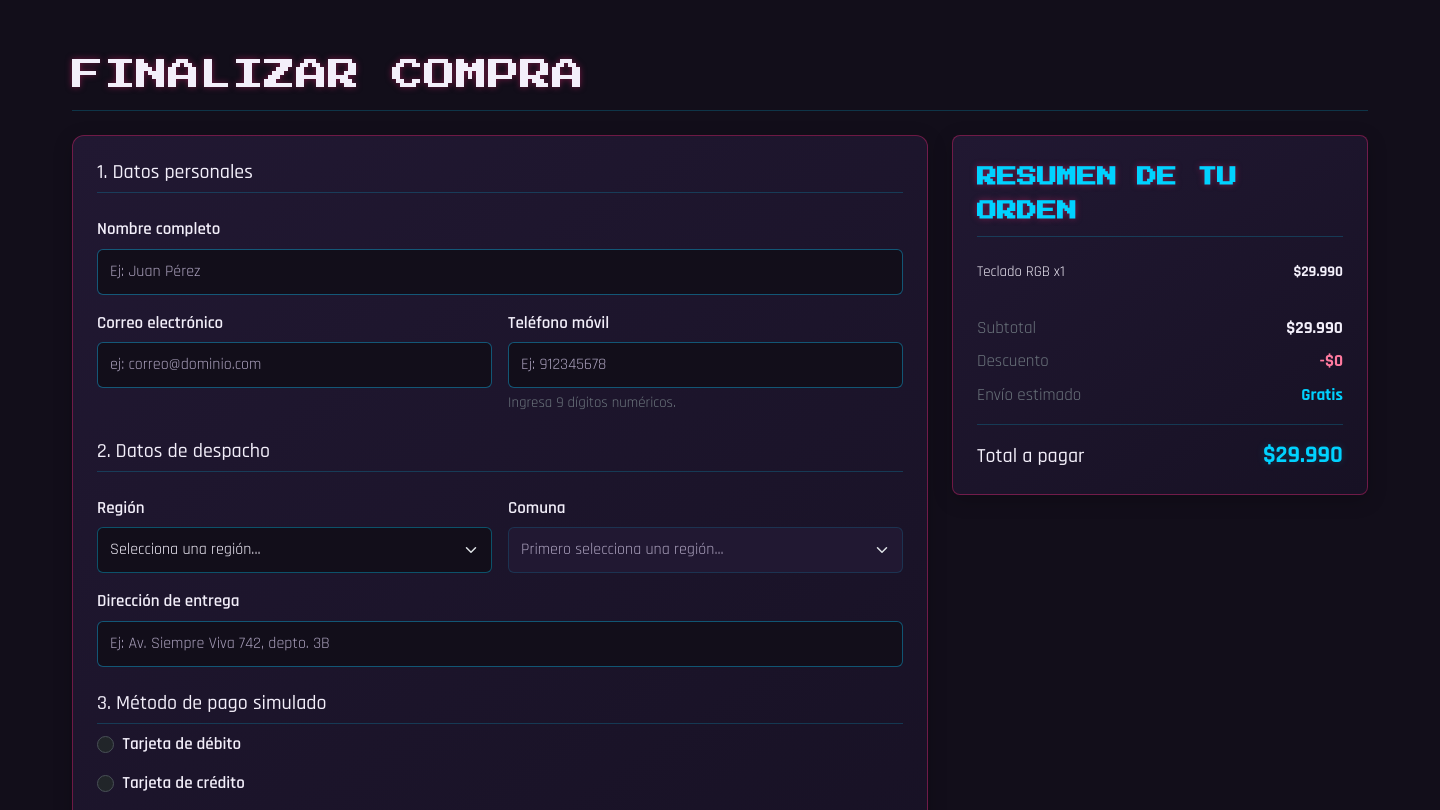
Test: Página Checkout › Debe impedir la compra cuando falta la dirección
In the field labelled "Nombre completo": (500, 272) [97, 249, 903, 295], type "Juan Pérez"
In the field labelled "Correo electrónico": (294, 365) [97, 342, 492, 388], type "juan@correo.cl"
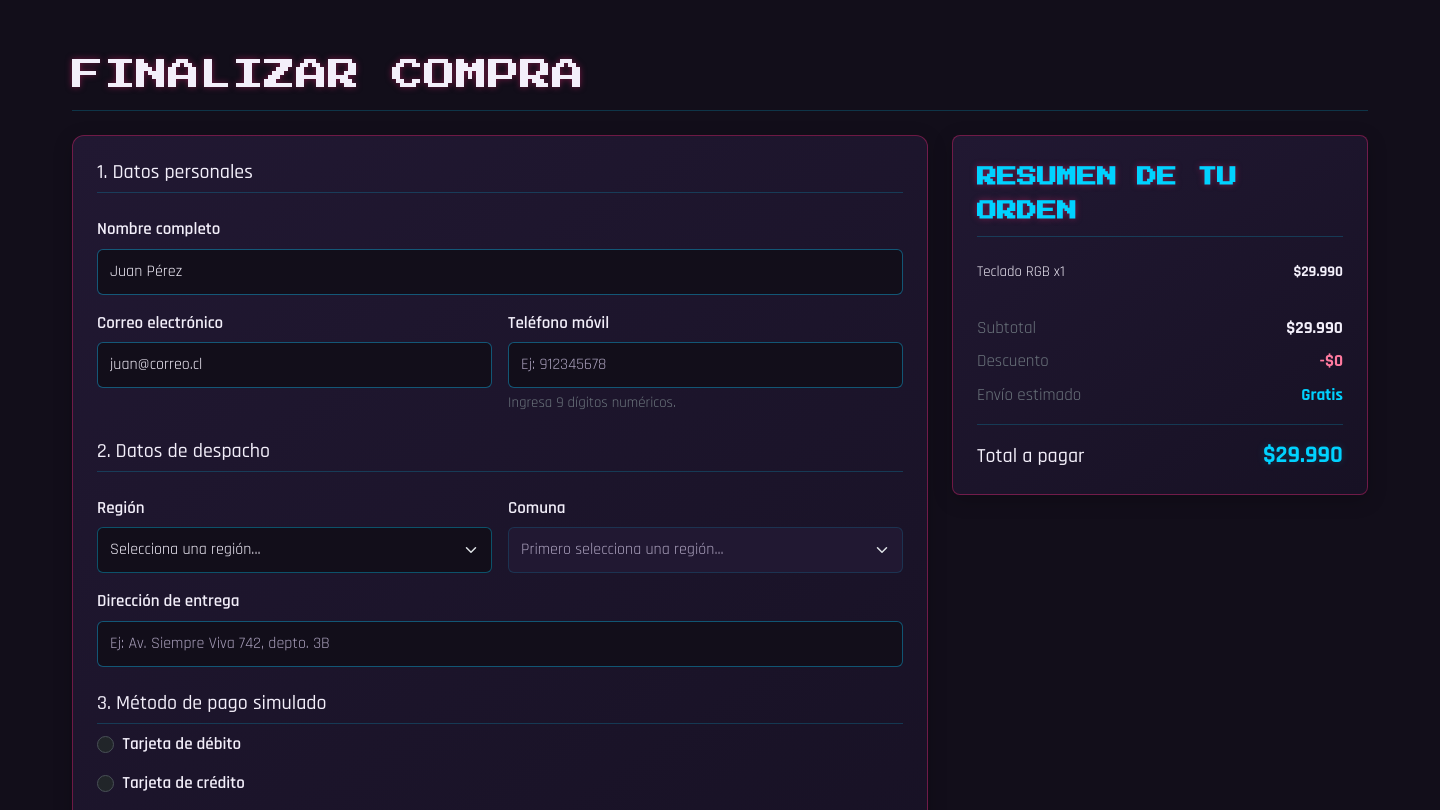
In the field labelled "Teléfono móvil": (706, 365) [508, 342, 903, 388], type "912345678"
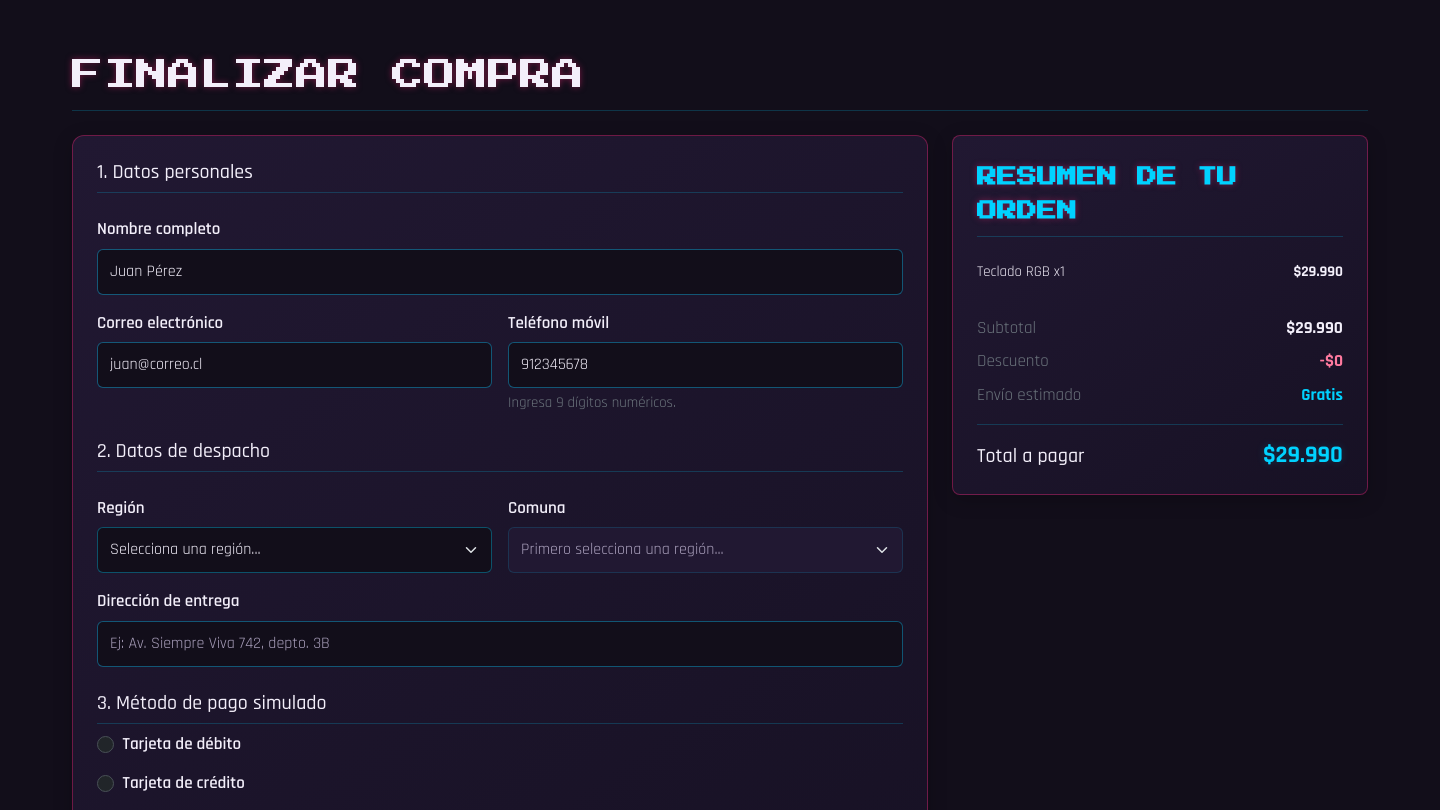
Select "Región Metropolitana" in the dropdown labelled "Región": (294, 550) [97, 527, 492, 573]
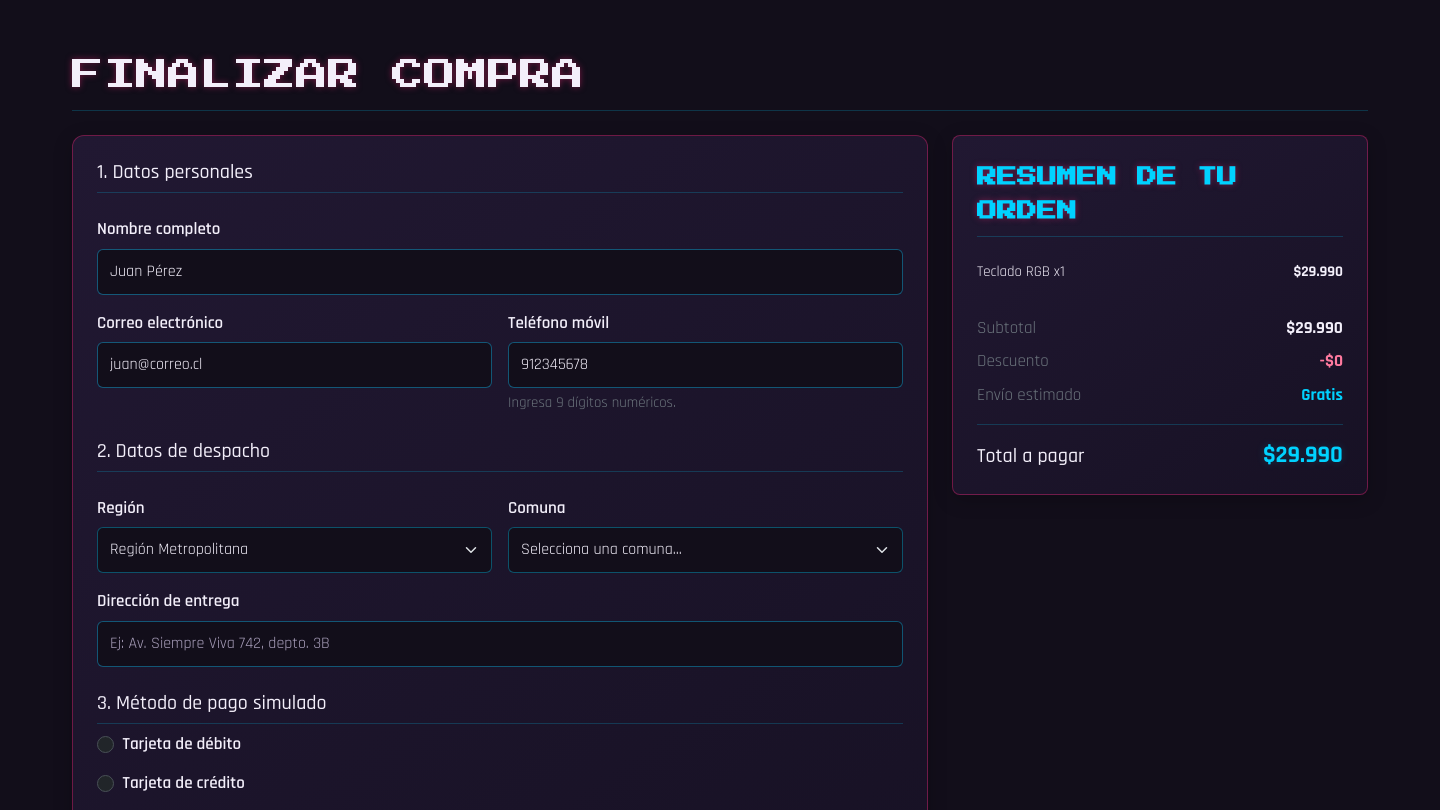
Select "Santiago" in the dropdown labelled "Comuna": (706, 550) [508, 527, 903, 573]
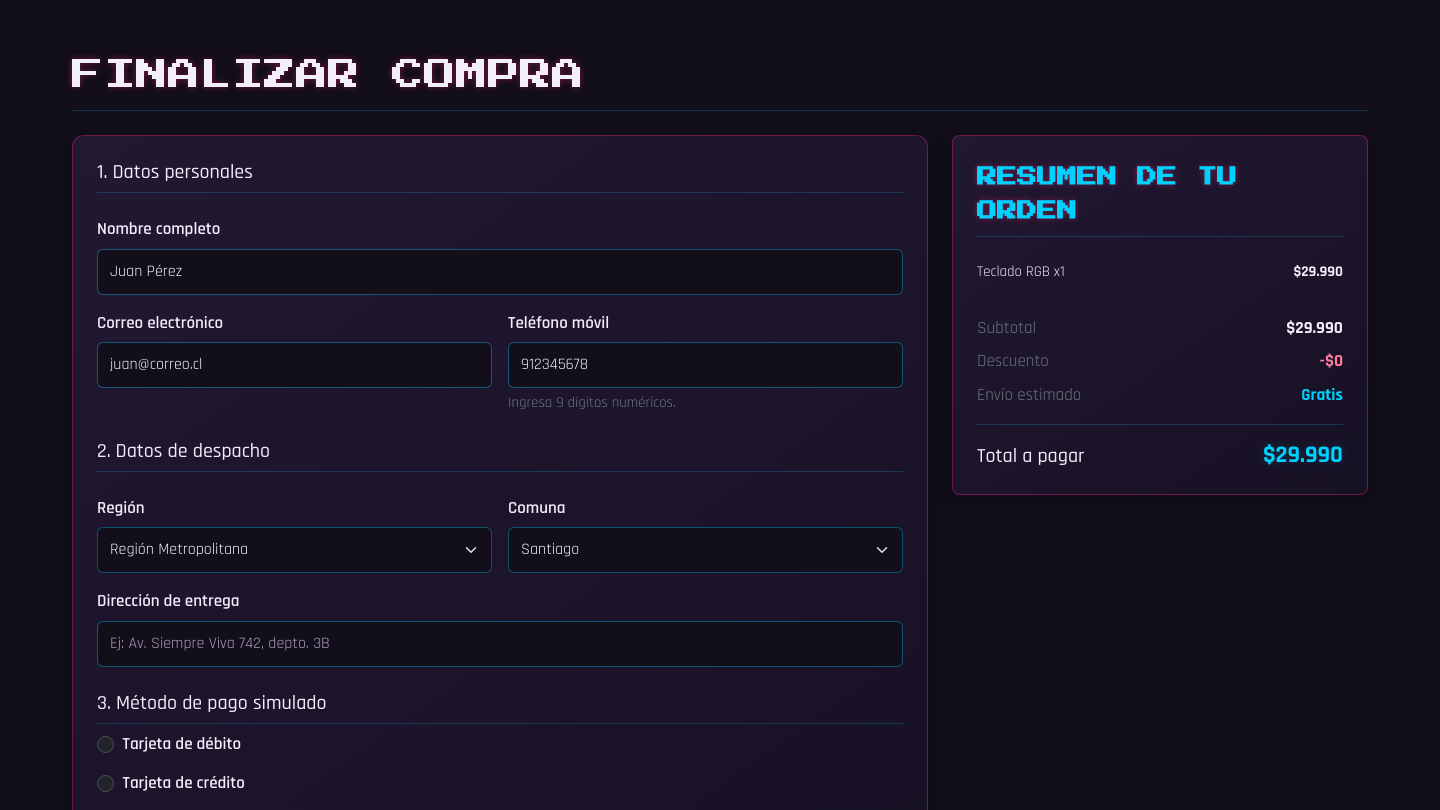
Click the radio button labelled "Tarjeta de débito": click(106, 744) [97, 736, 114, 753]
(page scrolled)
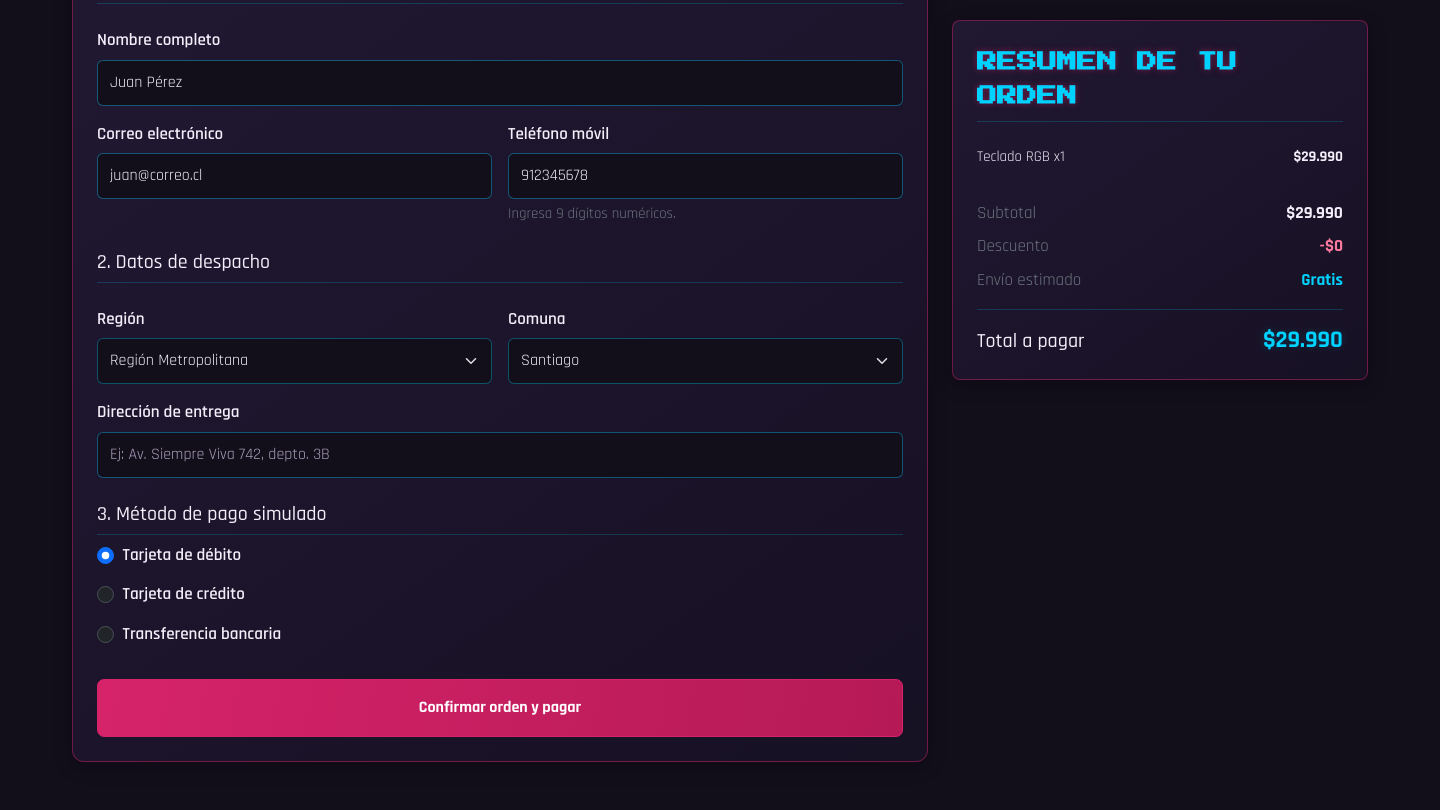
Click the button "Confirmar orden y pagar": click(500, 708) [97, 679, 903, 737]
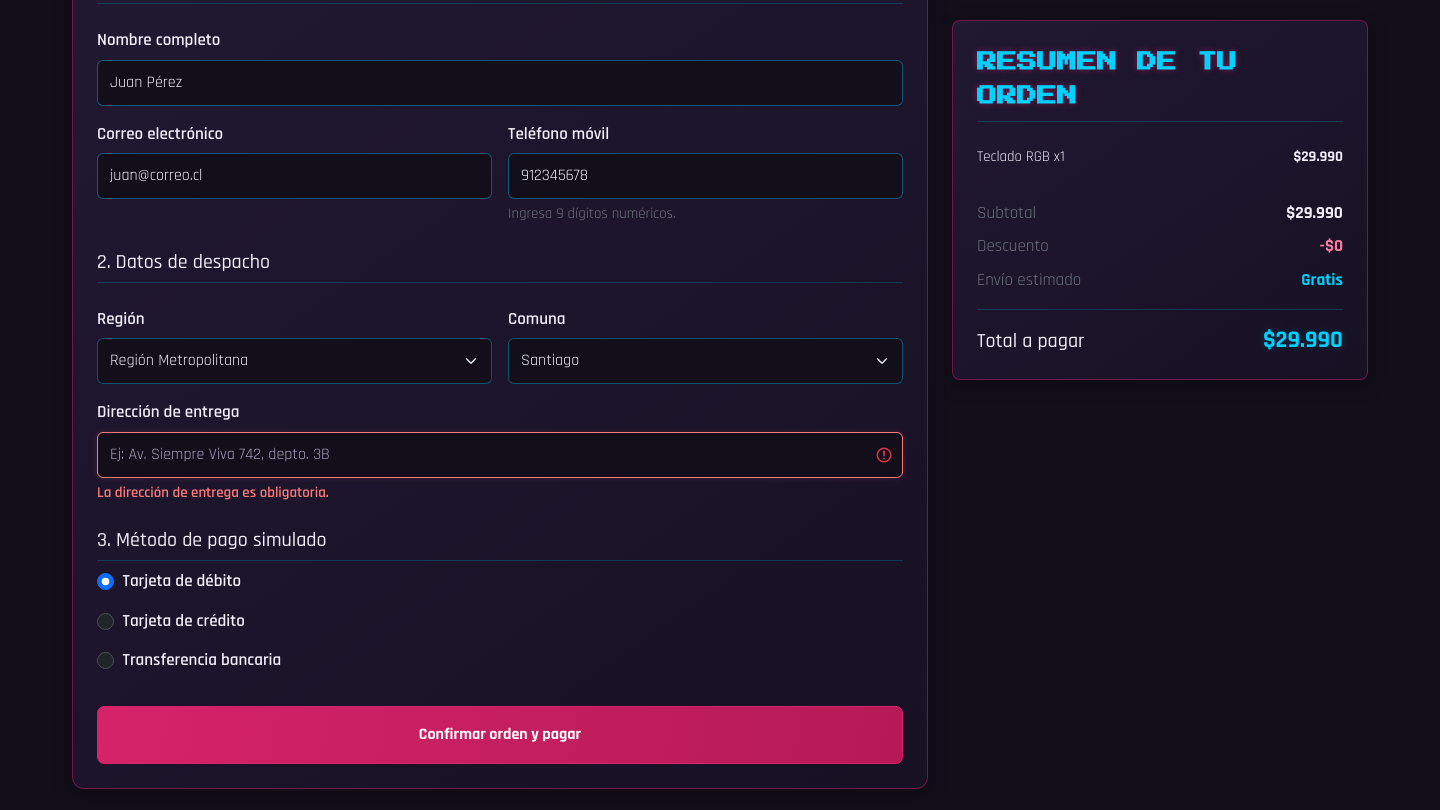
Check: the text "La dirección de entrega es obligatoria." is shown, box [97, 483, 329, 502]
